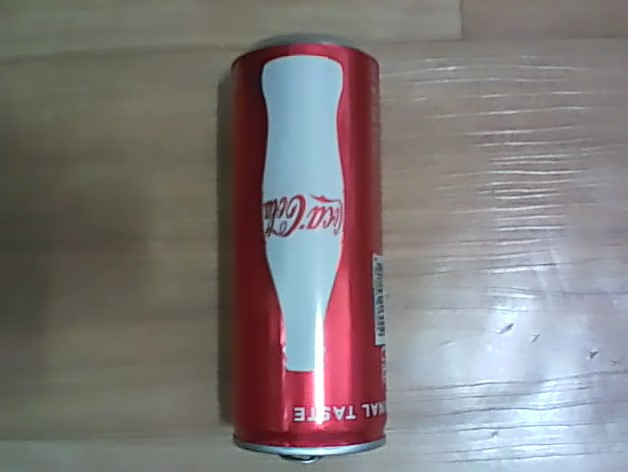Can: (211, 26, 394, 466)
